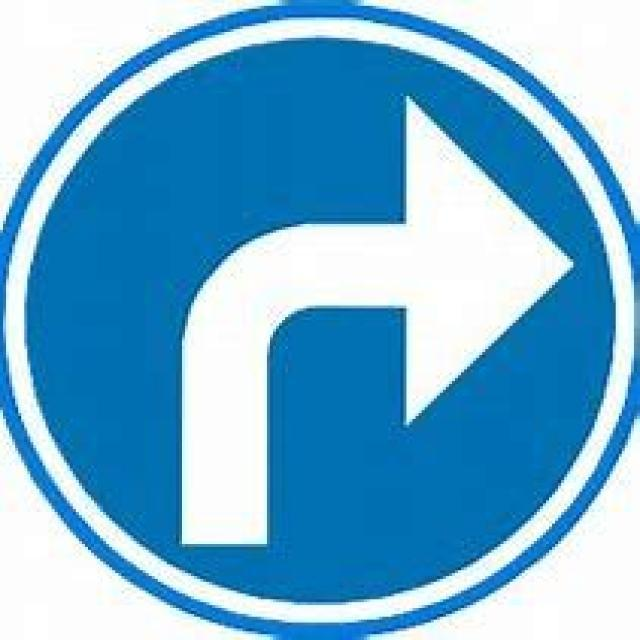compulsary turn right ahead: (17, 17, 628, 621)
